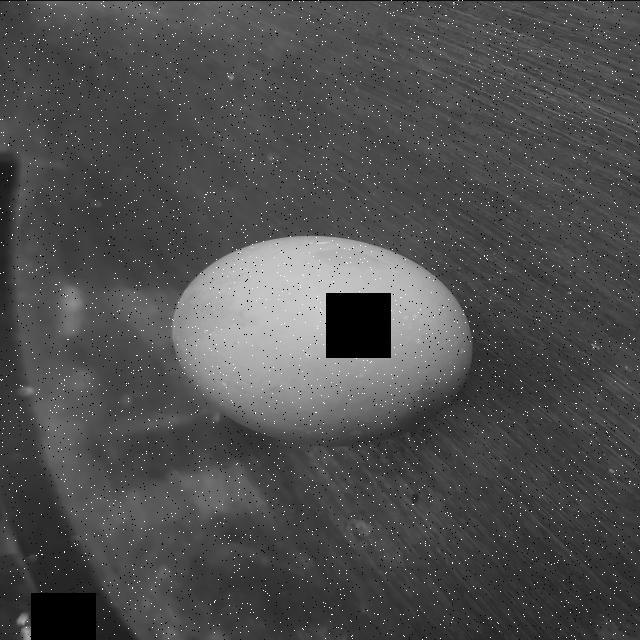egg: (165, 232, 475, 450)
